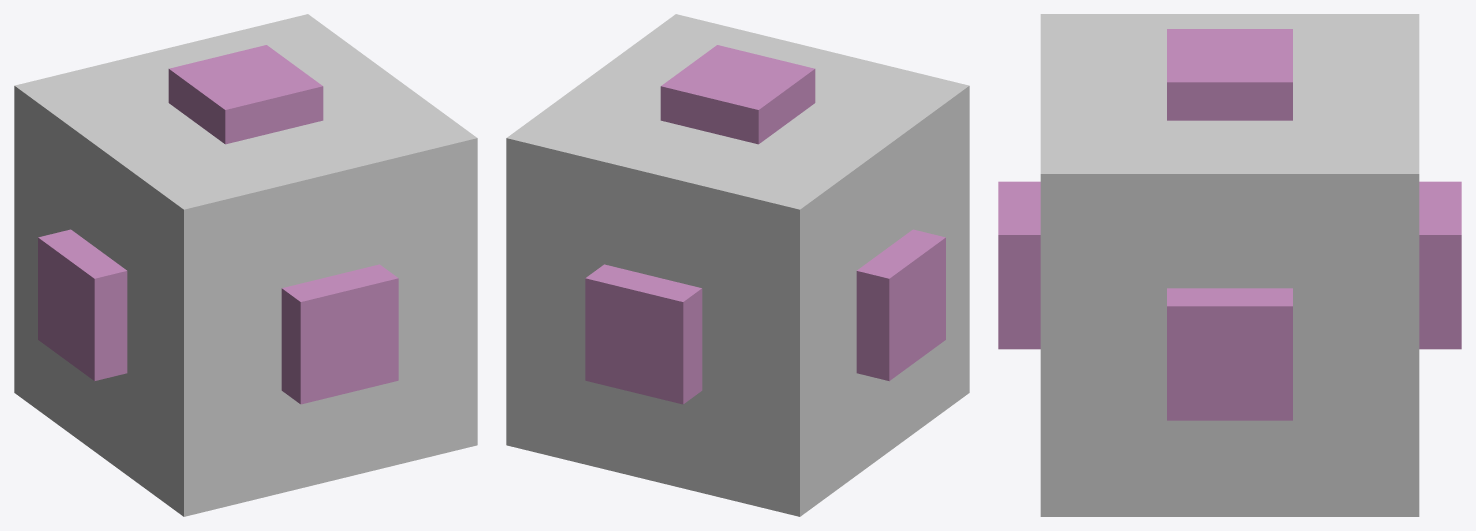
Rendered from pickup_2.fbx.
3 views of the same model, side by side, from view 1: azimuth 30°, elevation 25°; view 2: azimuth 150°, elevation 25°; view 3: azimuth 270°, elevation 25° (orthographic). The views are drawn at different scales.
Parts seen in each view (by area): view 1: Cube.001; view 2: Cube.001; view 3: Cube.001.
Part boxes in pixels (<box>): Cube.001: <box>14,14,477,516</box>; Cube.001: <box>506,14,969,516</box>; Cube.001: <box>998,14,1461,516</box>.
Bounding box in the file's own units: 146 × 146 × 146.
